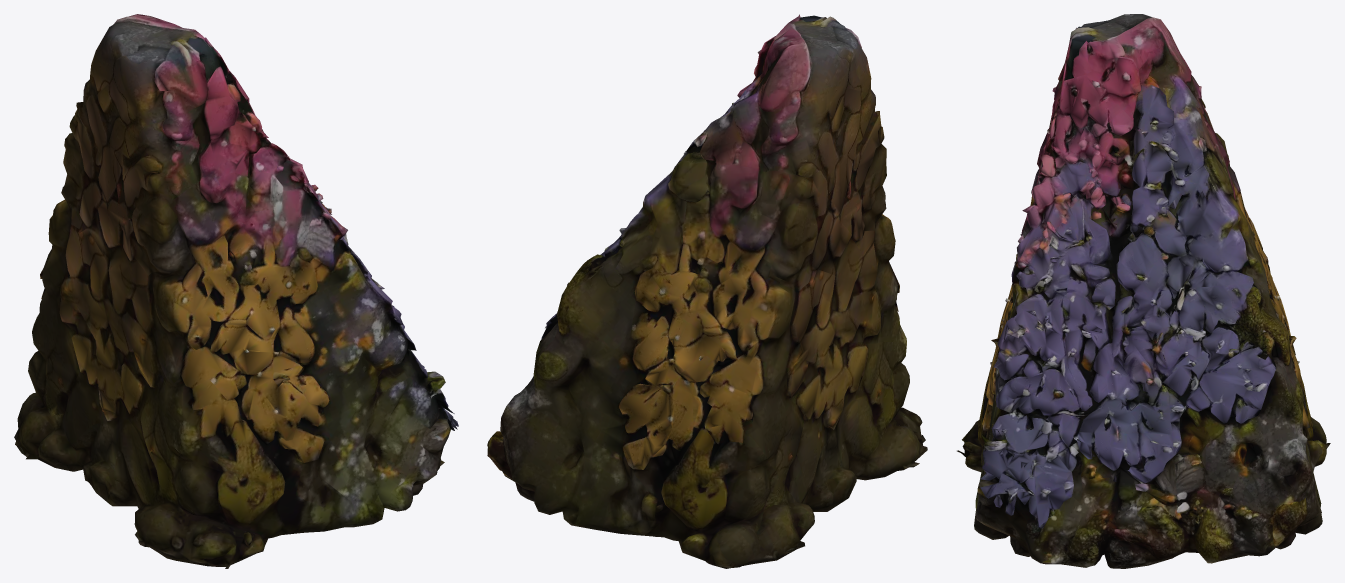
The model's file is lichen_rock.glb.
The picture shows the model from 3 angles, left to right: view 1: azimuth 30°, elevation 25°; view 2: azimuth 150°, elevation 25°; view 3: azimuth 270°, elevation 25°; orthographic projection. The views are drawn at different scales.
Visible parts, largest first — view 1: tripo_node_f416db50; view 2: tripo_node_f416db50; view 3: tripo_node_f416db50.
Part boxes in pixels (left/top/right/bottom): tripo_node_f416db50: left=14, top=14, right=458, bottom=568; tripo_node_f416db50: left=487, top=14, right=927, bottom=568; tripo_node_f416db50: left=957, top=14, right=1330, bottom=568.
Size of the model in its own units: 0.6652 by 0.9786 by 0.7493.
1 material, 1 textured.
